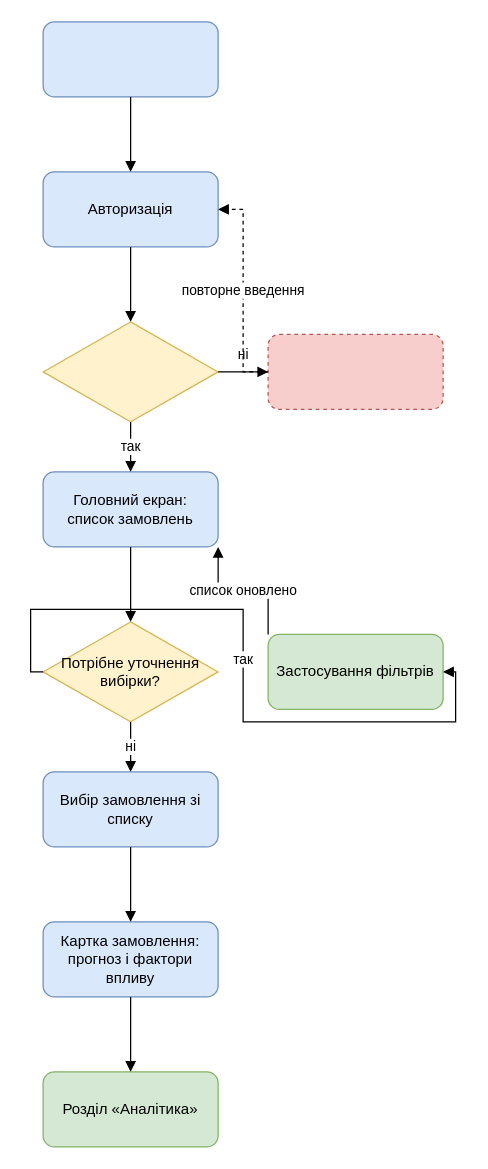
The diagram is 488 pixels wide and 1169 high, and some of its shapes have lost their labels. Here are the shapes that lost their labels. From the top down, the centre of each, then its label:
At pixel 130 59: "Відкриття застосунку".
At pixel 130 371: "Дані коректні?".
At pixel 355 371: "Повідомлення про помилку".
